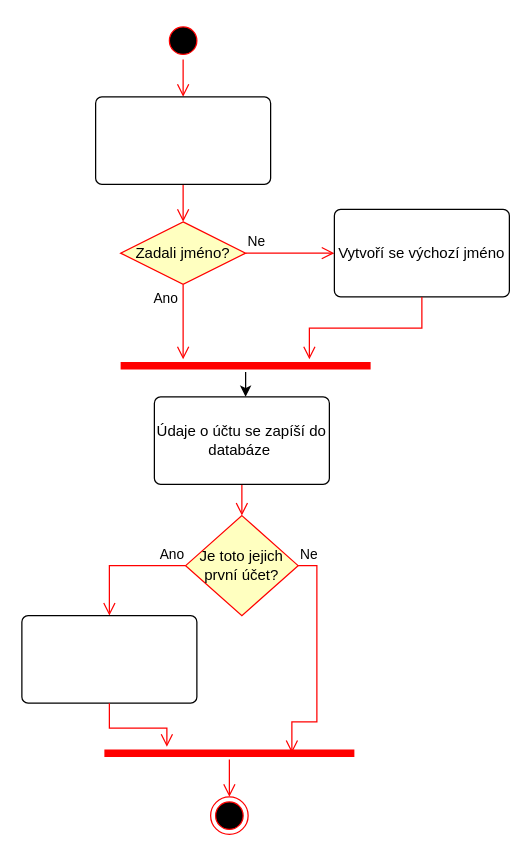
This 531x856 diagram has some shape labels left out. The centre of each missing label's shape, as x and y in pixels:
"Připíše se jim bonus pro nové uživatele" belongs at (109,658).
"Uživatel otevře dialog pro otevření nového účtu" belongs at (182,140).
